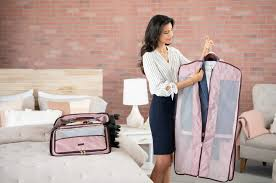suitcase: (47, 111, 113, 158)
